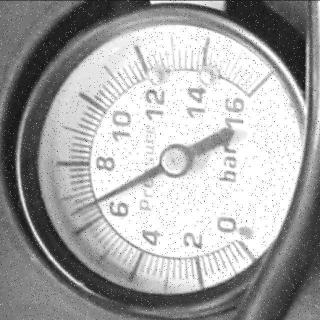gauge: (17, 6, 318, 311), (234, 71, 274, 116), (158, 143, 190, 179), (226, 219, 258, 251), (66, 205, 82, 222)
